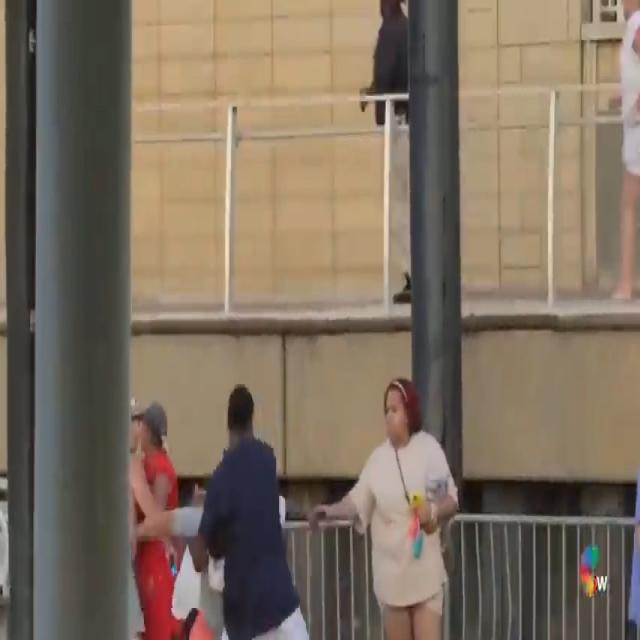fight: (128, 382, 312, 640)
